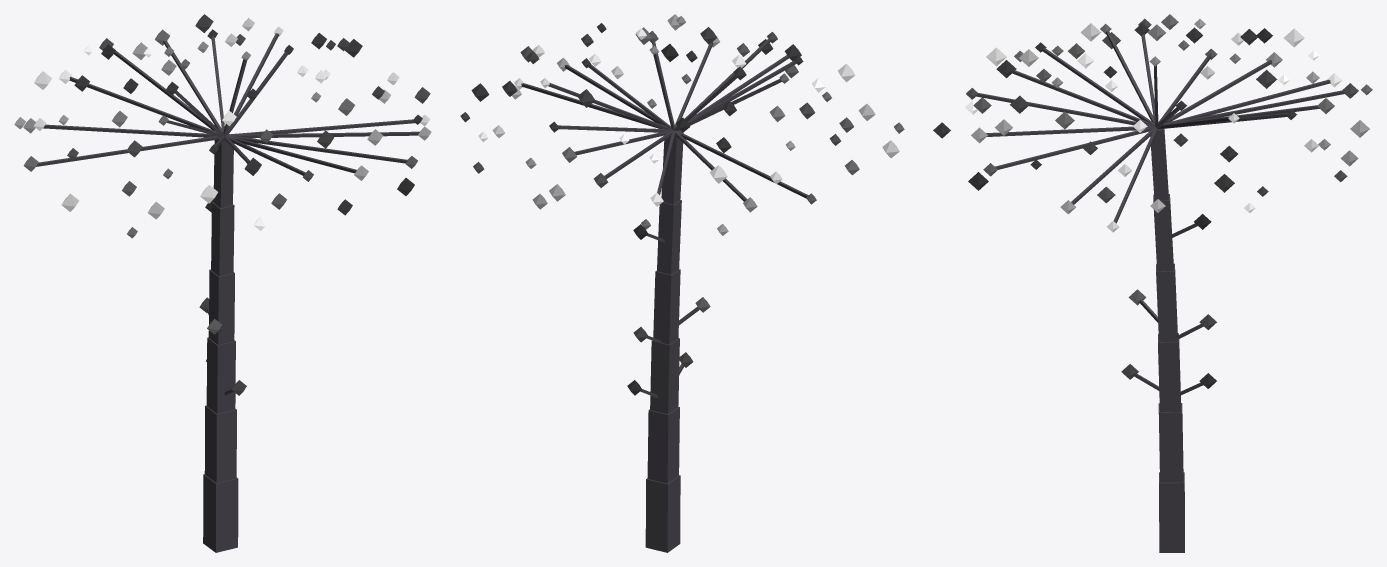
File: umbel_tree_s.glb
3 views of the same model, side by side, from view 1: azimuth 30°, elevation 25°; view 2: azimuth 150°, elevation 25°; view 3: azimuth 270°, elevation 25° (orthographic). The views are drawn at different scales.
Visible parts, largest first — view 1: umbel_tree_s; view 2: umbel_tree_s; view 3: umbel_tree_s.
Part boxes in pixels (x1=…): umbel_tree_s: x1=14, y1=14, x2=431, y2=552; umbel_tree_s: x1=460, y1=14, x2=904, y2=552; umbel_tree_s: x1=933, y1=14, x2=1372, y2=552.
Bounding box in the file's own units: 4.4 × 5.5 × 4.39.
Materials: 2 (1 with a texture image).
